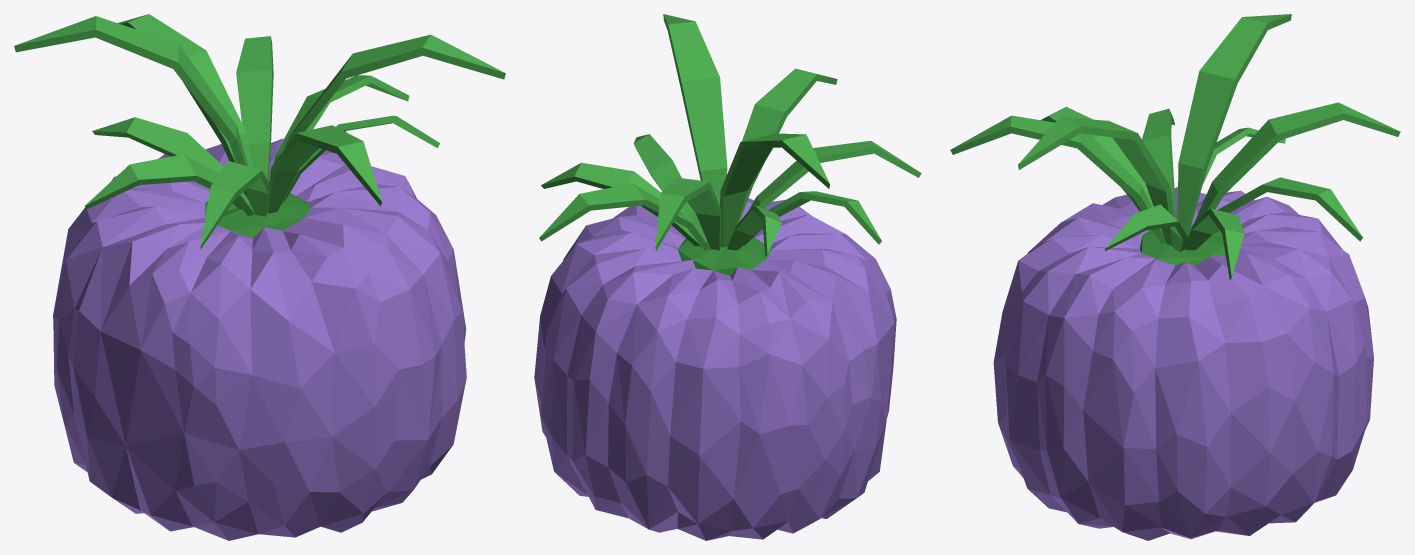
The model's file is fantasy_plant_057.fbx.
3 renders of one model, left to right at view 1: azimuth 30°, elevation 25°; view 2: azimuth 150°, elevation 25°; view 3: azimuth 270°, elevation 25°, orthographic. The views are drawn at different scales.
Parts seen in each view (by area): view 1: fantasy_plant.057; view 2: fantasy_plant.057; view 3: fantasy_plant.057.
Boxes of the visible parts, <box> form: fantasy_plant.057: <box>14,14,505,540</box>; fantasy_plant.057: <box>534,14,921,540</box>; fantasy_plant.057: <box>950,14,1400,540</box>.
Bounding box in the file's own units: 153 × 186 × 180.
1 material, 1 textured.
